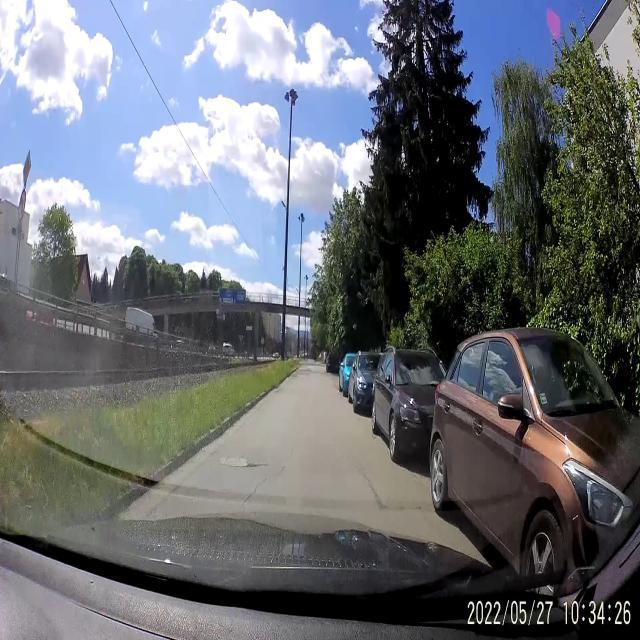Manhole: (219, 452, 248, 472)
Pothole: (248, 455, 258, 474)
